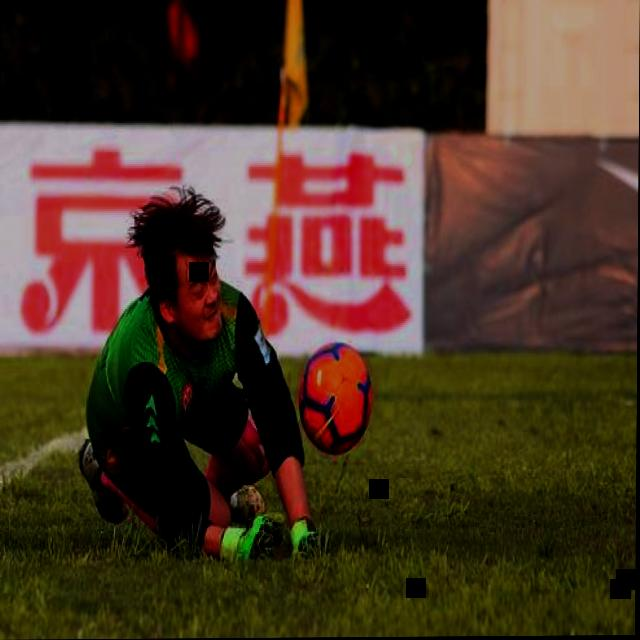Fall-Detected: (80, 171, 336, 579)
